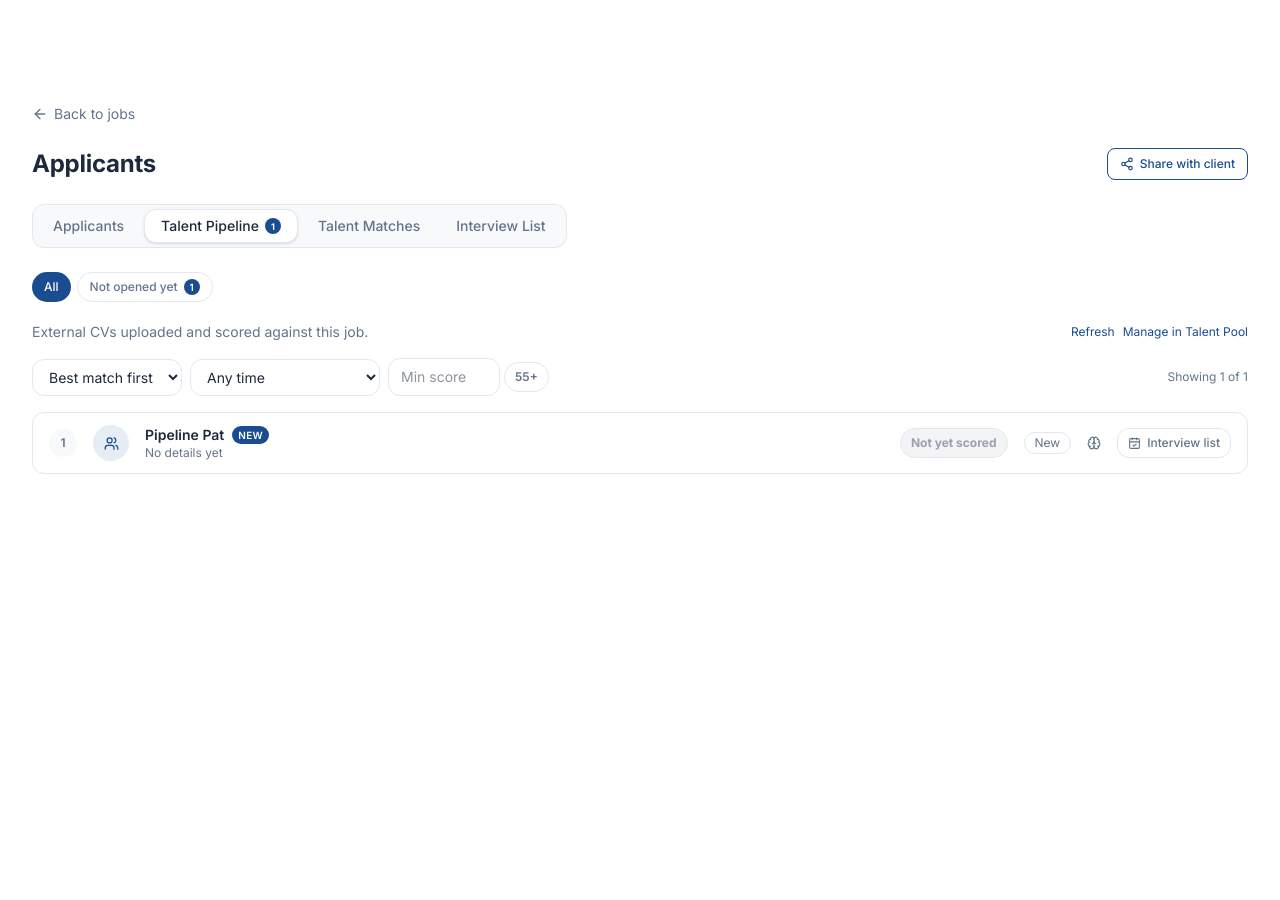
ApplicantsPage, pipeline CVs not opened yet › badges a new CV, counts it on the tab, and marks it opened when it is opened
Expected: the text "New" is shown, top-left (232, 426), bottom-right (269, 444)
Expected: the text with test id "not-opened-count" reads "1", top-left (190, 281), bottom-right (194, 293)
Click the button "Pipeline Pat" at (111, 443), box top-left (49, 425), bottom-right (1101, 461)
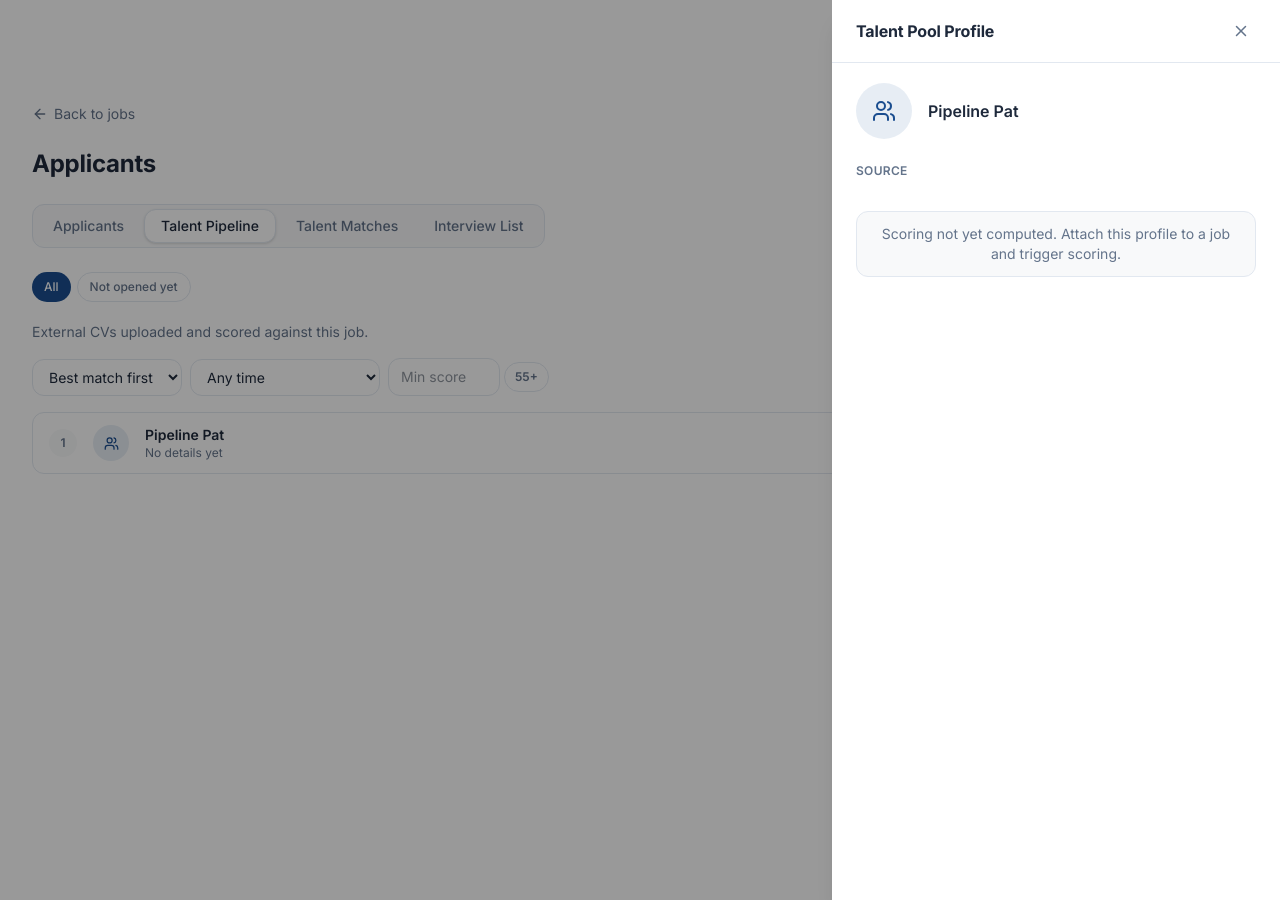
Result: the text with test id "new-badge" is gone
Result: the text with test id "not-opened-count" is gone
